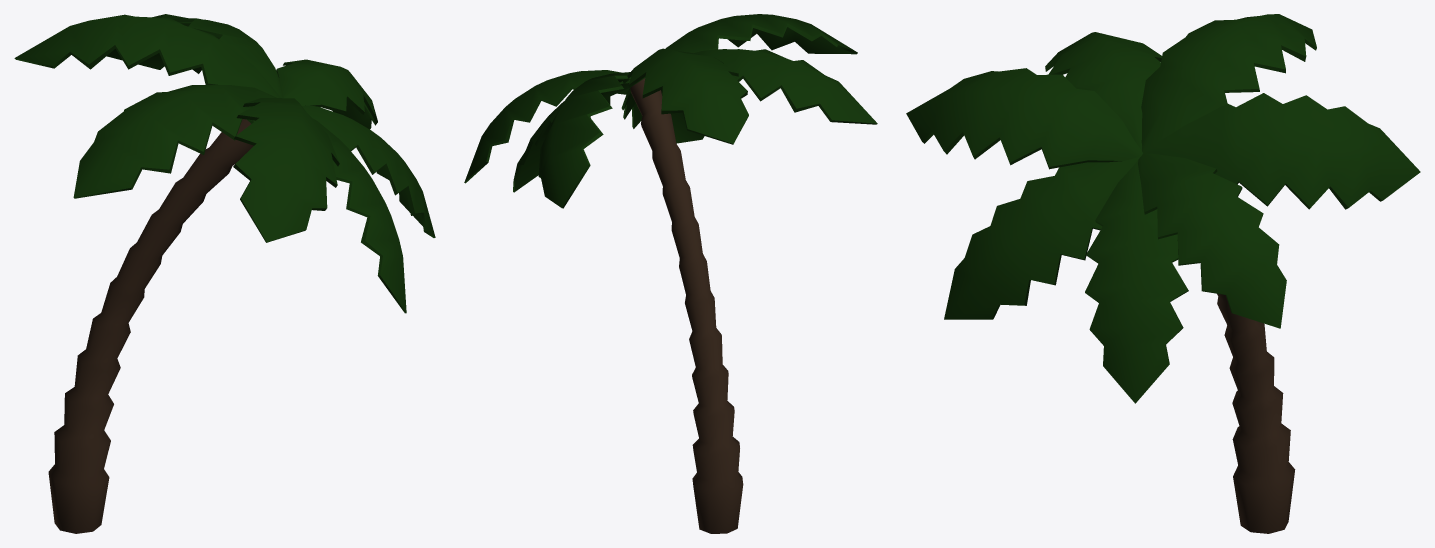
The model's file is big_tree.fbx.
3 renders of one model, left to right at view 1: azimuth 30°, elevation 25°; view 2: azimuth 150°, elevation 25°; view 3: azimuth 270°, elevation 25°, orthographic. The views are drawn at different scales.
Visible parts, largest first — view 1: tree_big; view 2: tree_big; view 3: tree_big.
Part boxes in pixels (x1,y1,x2,y2): tree_big: [14, 14, 435, 533]; tree_big: [464, 14, 877, 533]; tree_big: [906, 14, 1420, 533].
Size of the model in its own units: 12.65 by 15.77 by 14.09.
